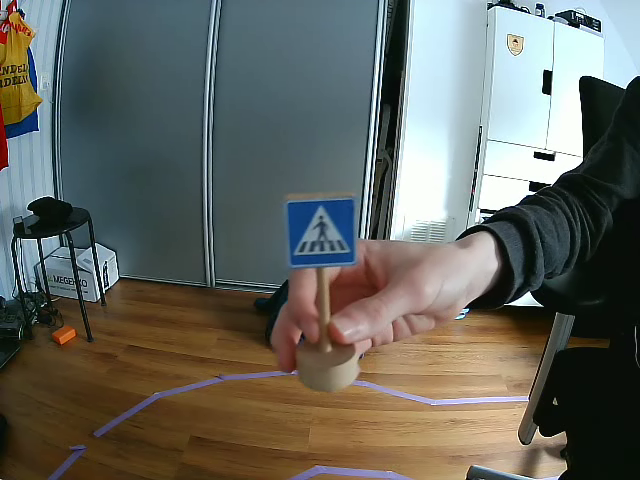zebrapad: (291, 198, 357, 267)
